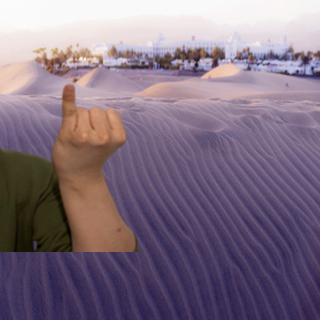FINE: (48, 81, 129, 193)
